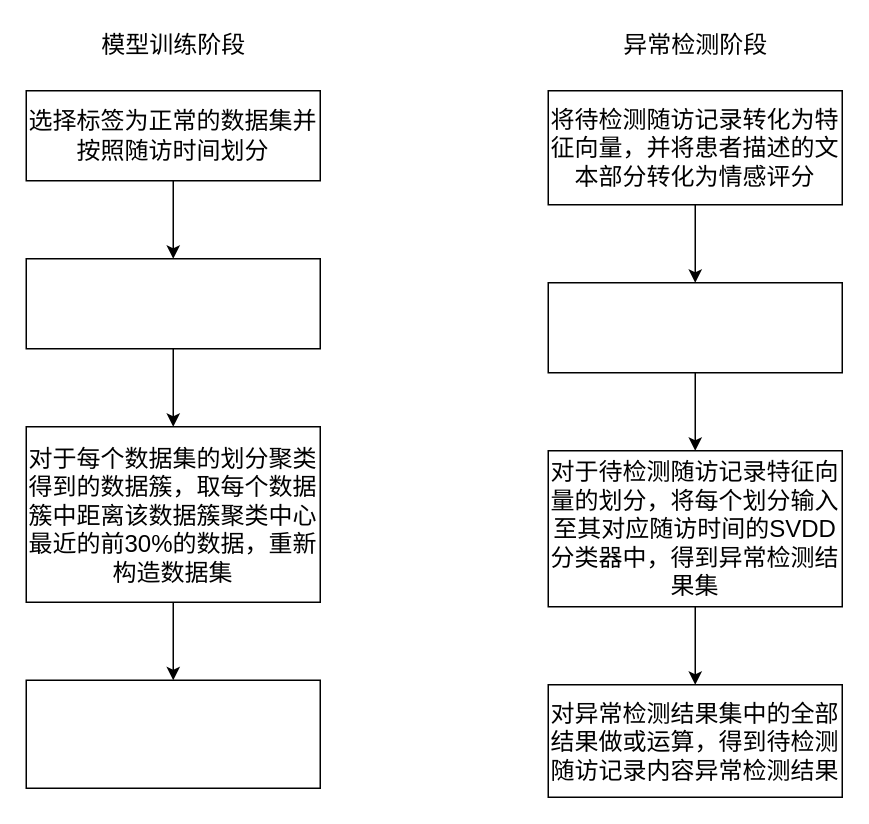
This 869x824 diagram has some shape labels left out. The box of each missing label's shape, as (x1, y1, x2, y2) in pixels:
对于每个数据集的划分，使用K-means算法进行聚类: (25, 257, 320, 349)
将待检测随访记录特征向量按照随访时间划分: (547, 281, 842, 373)
根据重新构造的数据集，使用SVDD算法训练SVDD分类器，得到SVDD分类器集: (25, 679, 320, 788)
